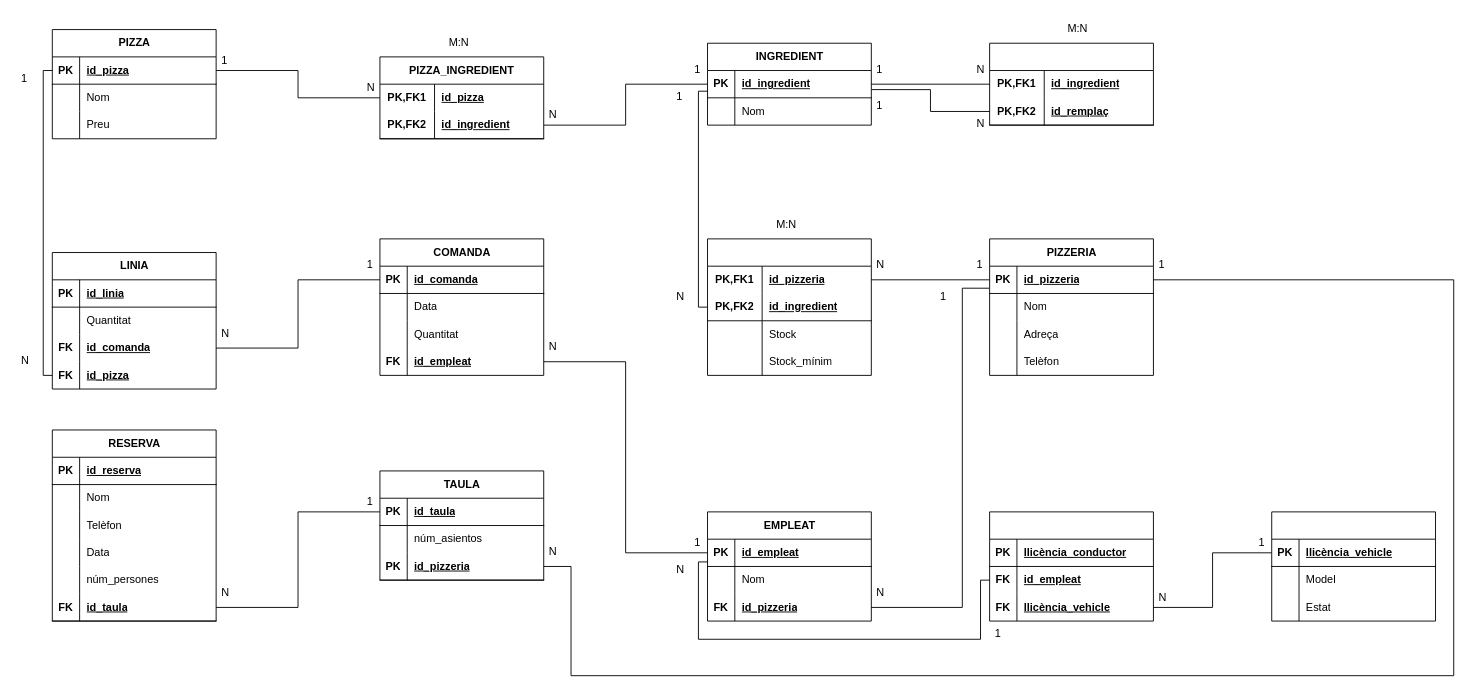
Image size: 1471x693. Some labels were removed from this diagram. Here are the shapes that lost their labels. From the top down, the box of each, then its label:
(989, 42, 1153, 125): INGREDIENT_REMPLAÇ
(707, 238, 871, 375): INGREDIENT_PIZZERIA
(989, 511, 1153, 621): REPARTIDOR
(1271, 511, 1436, 621): MOTO
